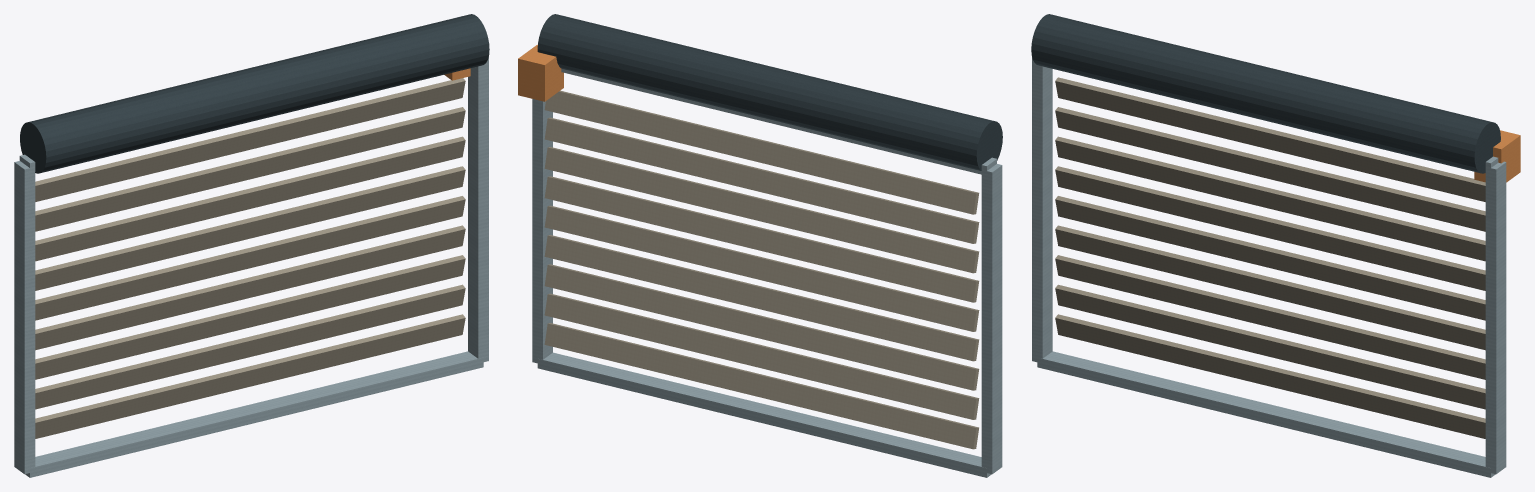
File: greenhouse_shade_screen.glb
3 views of the same model, side by side, from view 1: azimuth 30°, elevation 25°; view 2: azimuth 150°, elevation 25°; view 3: azimuth 330°, elevation 25° (orthographic).
Parts seen in each view (by area): view 1: Shade_Louvres__fabricwarm, Shade_Roller__graphite, Support_Frame__alloy; view 2: Shade_Louvres__fabricwarm, Shade_Roller__graphite, Support_Frame__alloy, Shade_Motor__amber; view 3: Shade_Louvres__fabricwarm, Shade_Roller__graphite, Support_Frame__alloy, Shade_Motor__amber.
Boxes of the visible parts, x1,y1,x2,y2 form: Shade_Louvres__fabricwarm: (35, 78, 465, 438); Shade_Roller__graphite: (20, 14, 489, 173); Support_Frame__alloy: (14, 56, 488, 477); Shade_Louvres__fabricwarm: (544, 90, 979, 449); Shade_Roller__graphite: (537, 14, 1002, 170); Support_Frame__alloy: (532, 68, 1002, 477); Shade_Motor__amber: (518, 44, 563, 101); Shade_Louvres__fabricwarm: (1055, 77, 1485, 438); Shade_Roller__graphite: (1031, 14, 1500, 173); Support_Frame__alloy: (1032, 57, 1506, 477); Shade_Motor__amber: (1474, 130, 1520, 182).
Bounding box in the file's own units: 2.23 × 1.61 × 0.315.
4 materials, 4 textured.
